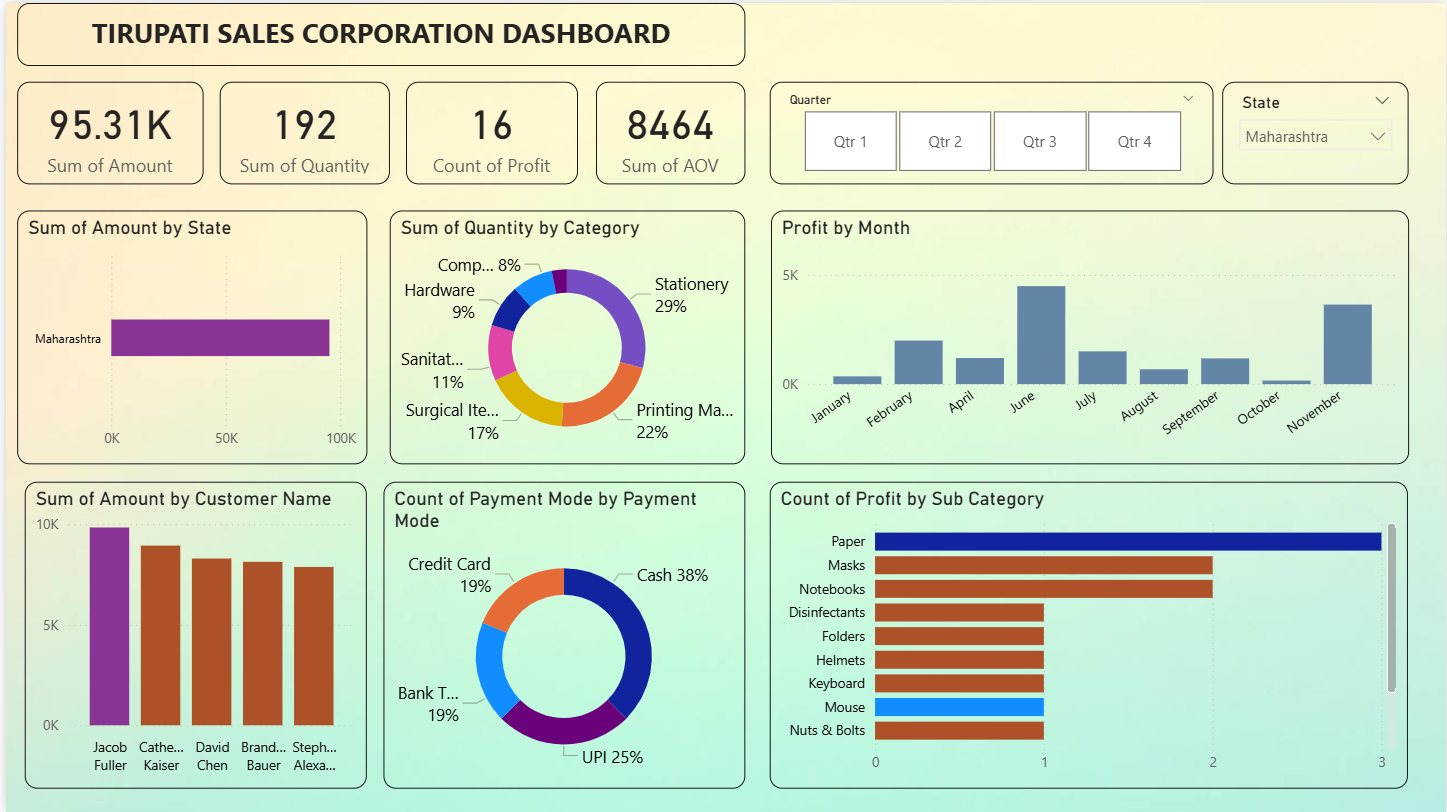

The dashboard page shown, as its layout file describes it:
{"tool":"powerbi","page":{"name":"Page 1","canvas":[1280,720],"ordinal":0},"visuals":[{"type":"textbox","box":[10,0,647.1,55.7],"z":0},{"type":"columnChart","title":"Profit by Month","fields":{"Category":["orders.Order Date.Variation.Date Hierarchy.Month"],"Y":["details.Profit"]},"box":[680,184.3,567.1,225.7],"z":1000},{"type":"barChart","fields":{"Category":["details.Sub Category"],"Y":["details.Profit"]},"box":[678.6,425.7,567.1,272.9],"z":2000},{"type":"donutChart","fields":{"Category":["details.Category"],"Y":["details.Quantity"]},"box":[341.4,184.3,315.7,225.7],"z":3000},{"type":"donutChart","fields":{"Category":["details.Payment Mode"],"Y":["details.Payment Mode"]},"box":[335.7,425.7,321.4,272.9],"z":4000},{"type":"card","fields":{"Values":["details.Amount"]},"box":[10,70,165.7,91.4],"z":5000},{"type":"card","fields":{"Values":["details.Profit"]},"box":[355.7,70,152.9,91.4],"z":6000},{"type":"card","fields":{"Values":["details.Quantity"]},"box":[190,70,151.4,91.4],"z":7000},{"type":"card","fields":{"Values":["details.AOV"]},"box":[524.3,70,132.9,91.4],"z":8000},{"type":"barChart","fields":{"Category":["orders.State"],"Y":["details.Amount"]},"box":[10,184.3,311.4,225.7],"z":9000},{"type":"columnChart","fields":{"Category":["orders.Customer Name"],"Y":["details.Amount"]},"box":[17.1,425.7,304.3,272.9],"z":10000},{"type":"slicer","fields":{"Values":["orders.Order Date.Variation.Date Hierarchy.Quarter"]},"box":[678.6,70,394.3,91.4],"z":10001},{"type":"slicer","fields":{"Values":["orders.State"]},"box":[1081.4,70,165.7,91.4],"z":10002}]}

Visuals, with their boxes in screenshot pixels (x1, y1, x2, y2), scaled from the page's 1280x720 canvas onto the 1447x812 screenshot:
textbox: (11,0,743,63)
"Profit by Month" columnChart: (769,208,1410,462)
barChart - details.Sub Category x details.Profit: (767,480,1408,788)
donutChart - details.Category x details.Quantity: (386,208,743,462)
donutChart - details.Payment Mode x details.Payment Mode: (379,480,743,788)
card - details.Amount: (11,79,199,182)
card - details.Profit: (402,79,575,182)
card - details.Quantity: (215,79,386,182)
card - details.AOV: (593,79,743,182)
barChart - orders.State x details.Amount: (11,208,363,462)
columnChart - orders.Customer Name x details.Amount: (19,480,363,788)
slicer - orders.Order Date.Variation.Date Hierarchy.Quarter: (767,79,1213,182)
slicer - orders.State: (1222,79,1410,182)
